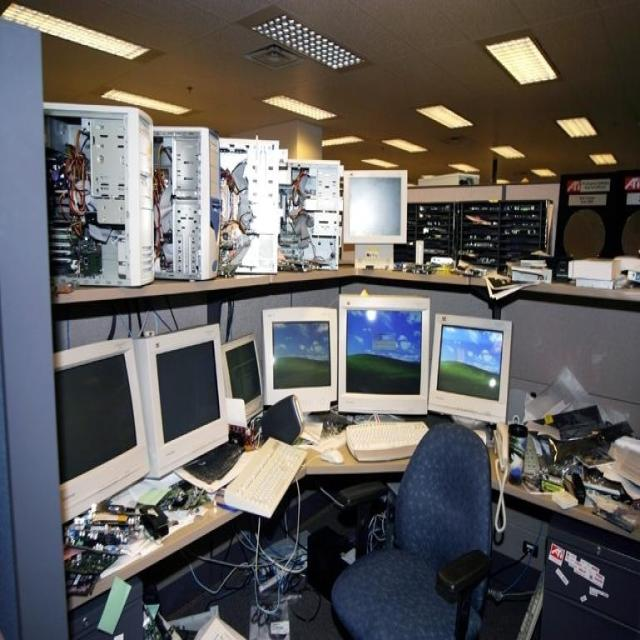E-waste: (0, 1, 625, 602)
